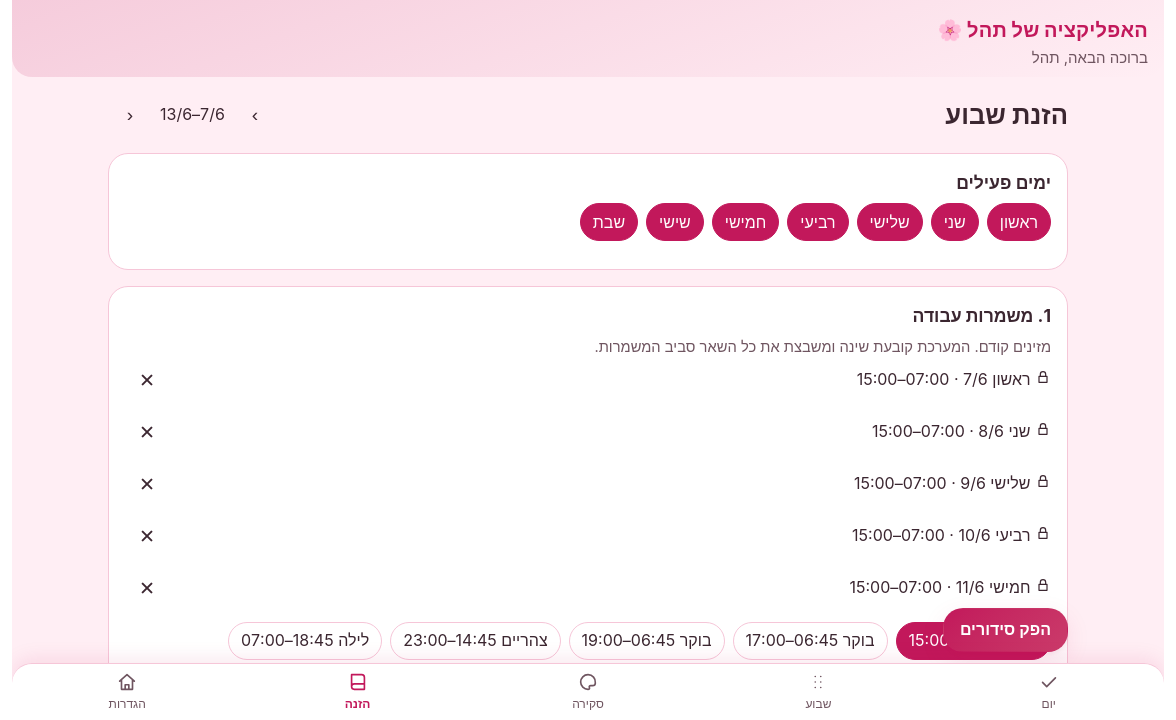
Test case: הפקה והשוואה › מפיק שלושה סידורים ומציג אותם זה לצד זה עם ציון וסיכום
What coordinates should you click on to do the following:
click the button "הפק סידורים"
I would click on:
 (1005, 630)
Its box is [943,608,1068,652].
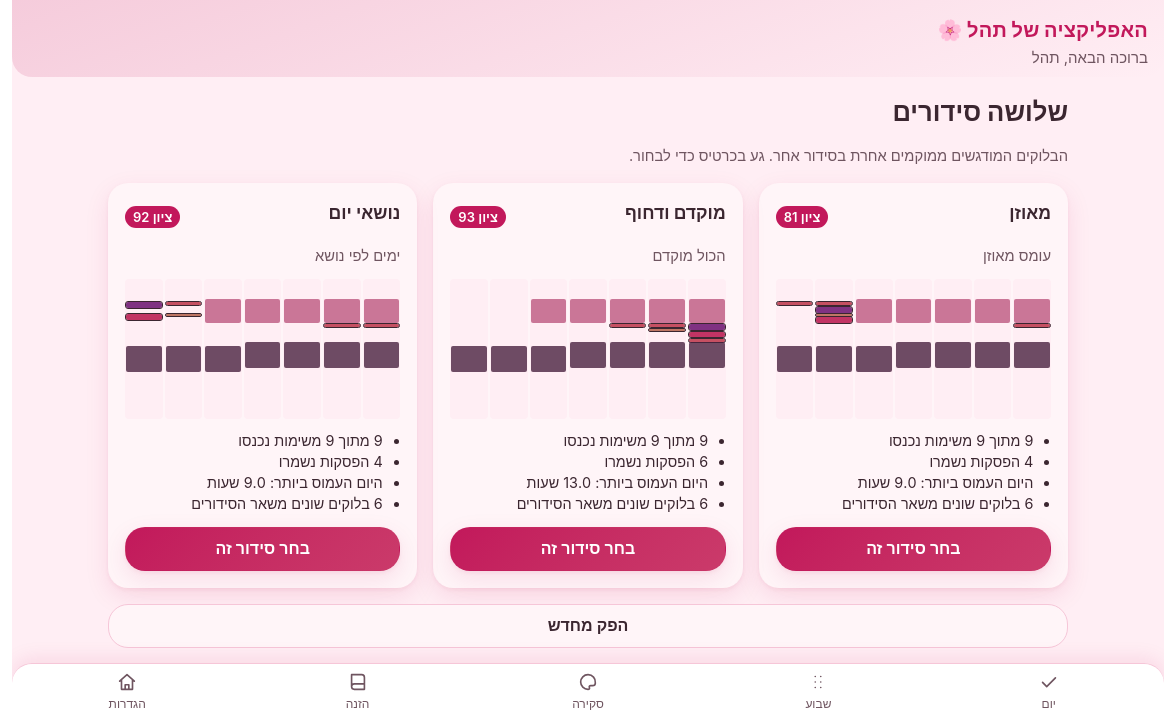
Check: the element that starts with "מאוזן" shows "משימות נכנסו", box [889,432,976,449]
Check: the element that starts with "מוקדם ודחוף" shows "משימות נכנסו", box [564,432,651,449]
Check: the element that starts with "נושאי יום" shows "משימות נכנסו", box [238,432,326,449]
